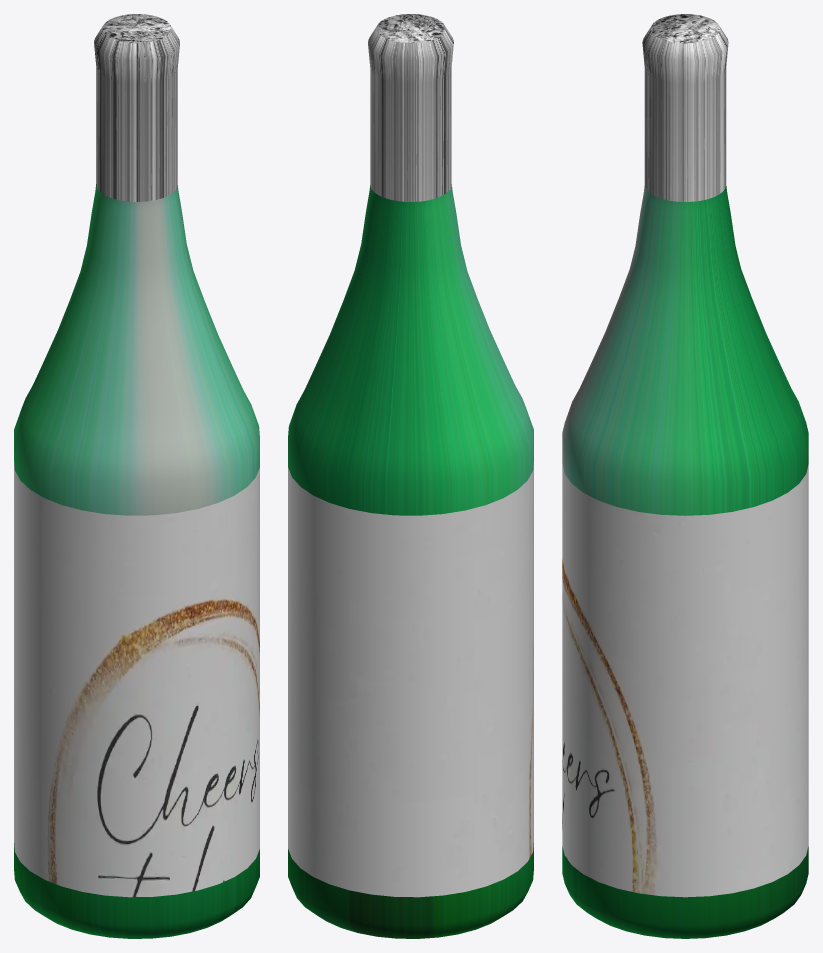
Rendered from wine-bottle.fbx.
3 views of the same model, side by side, from view 1: azimuth 30°, elevation 25°; view 2: azimuth 150°, elevation 25°; view 3: azimuth 270°, elevation 25° (orthographic).
Parts seen in each view (by area): view 1: Cylinder; view 2: Cylinder; view 3: Cylinder.
Boxes of the visible parts, <box> form: Cylinder: <box>14,14,259,938</box>; Cylinder: <box>288,14,533,938</box>; Cylinder: <box>562,14,808,938</box>.
Bounding box in the file's own units: 125 × 492 × 125.
Materials: 3 (3 with a texture image).
